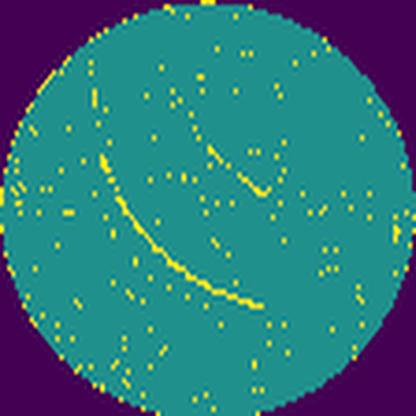Scratch: (92, 147, 270, 313), (202, 138, 274, 202)
